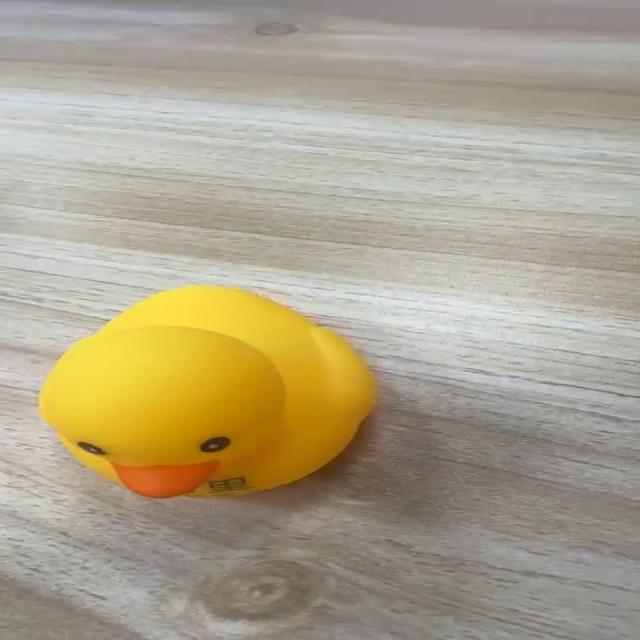yellow_duck: (35, 283, 377, 499)
